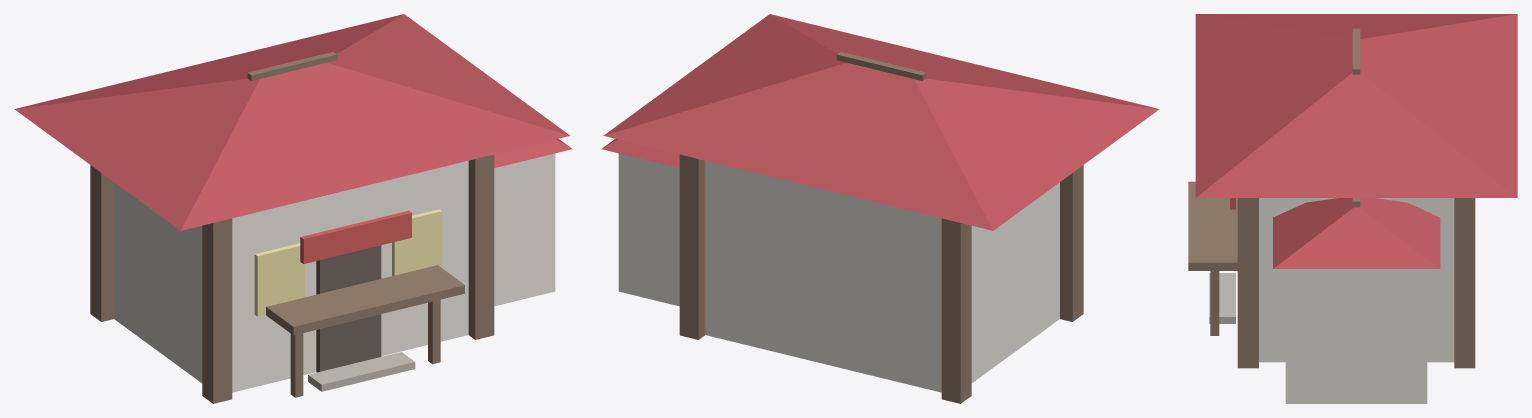
The model's file is residential_d.glb.
3 views of the same model, side by side, from view 1: azimuth 30°, elevation 25°; view 2: azimuth 150°, elevation 25°; view 3: azimuth 270°, elevation 25° (orthographic). The views are drawn at different scales.
Size of the model in its own units: 6.37 by 3.68 by 4.35.
